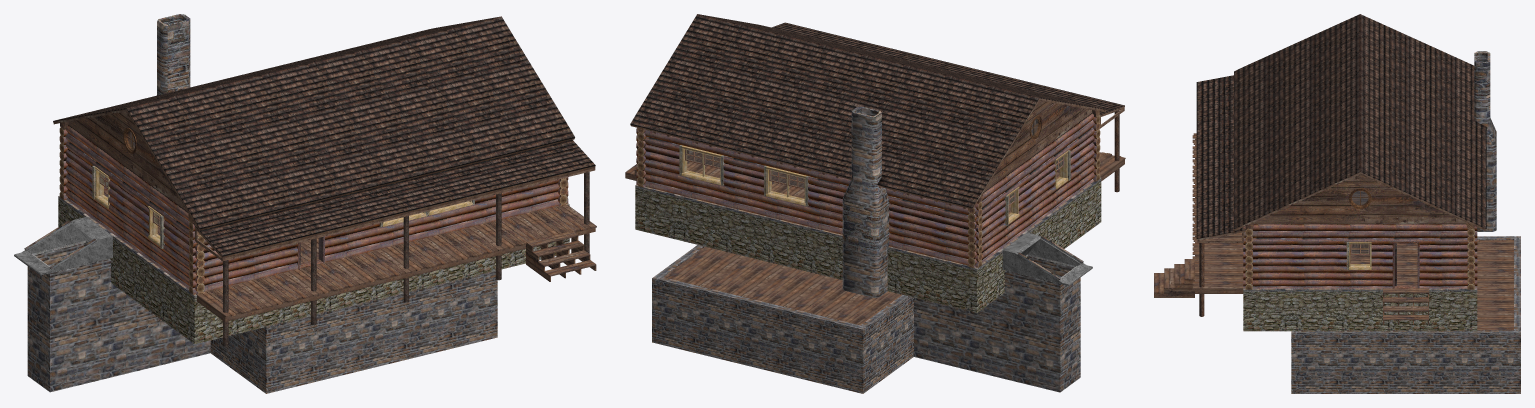
File: cabin-B.glb
3 views of the same model, side by side, from view 1: azimuth 30°, elevation 25°; view 2: azimuth 150°, elevation 25°; view 3: azimuth 270°, elevation 25° (orthographic). The views are drawn at different scales.
Parts seen in each view (by area): view 1: cabin-B; view 2: cabin-B; view 3: cabin-B.
Part boxes in pixels (x1=…): cabin-B: x1=14, y1=14, x2=596, y2=393; cabin-B: x1=625, y1=14, x2=1125, y2=393; cabin-B: x1=1154, y1=14, x2=1520, y2=393.
Bounding box in the file's own units: 21.01 × 11.89 × 15.98.
Materials: 20 (20 with a texture image).
